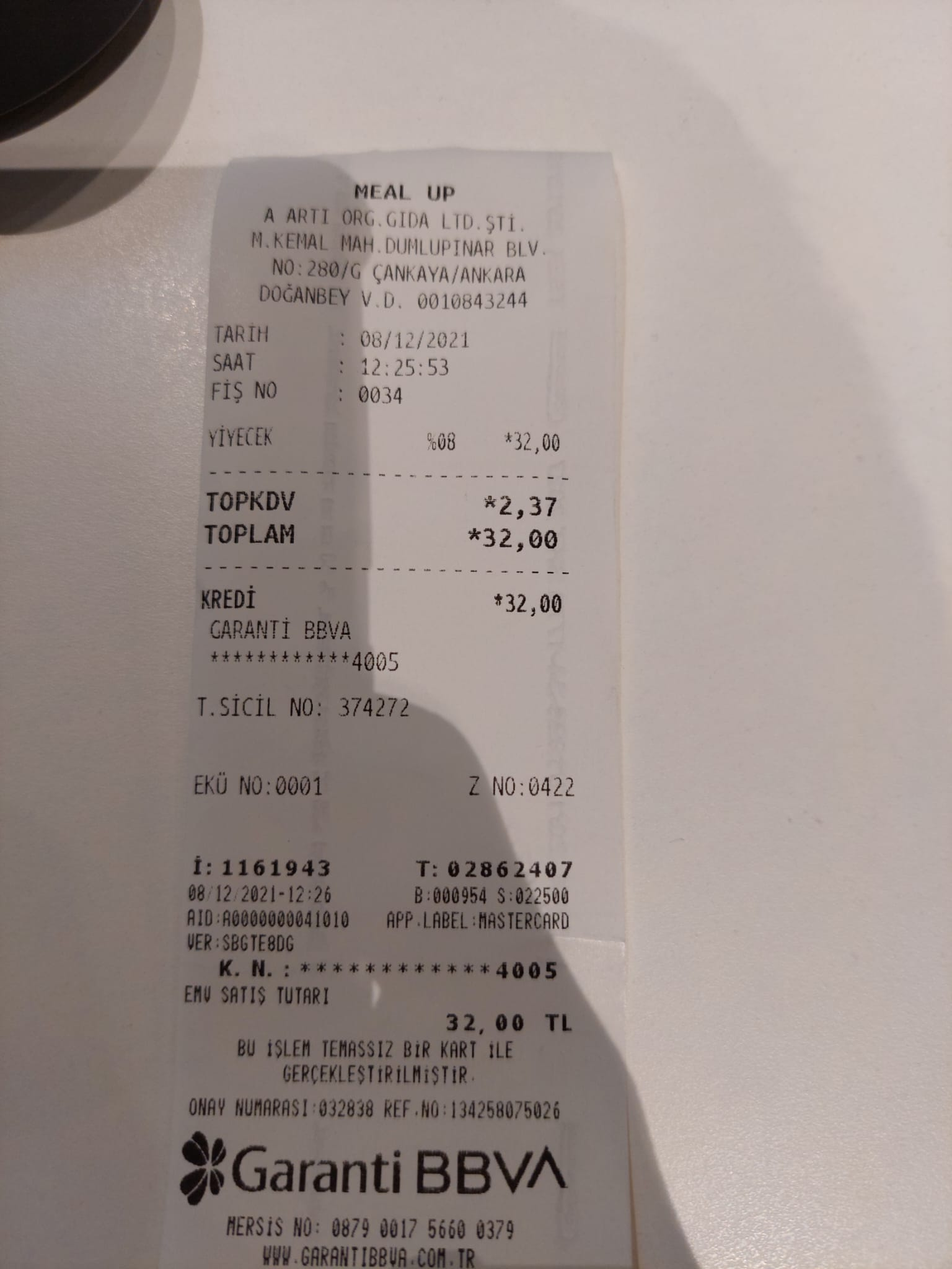date: (355, 322, 481, 355)
price: (480, 518, 575, 563)
workplace: (243, 176, 559, 287)
